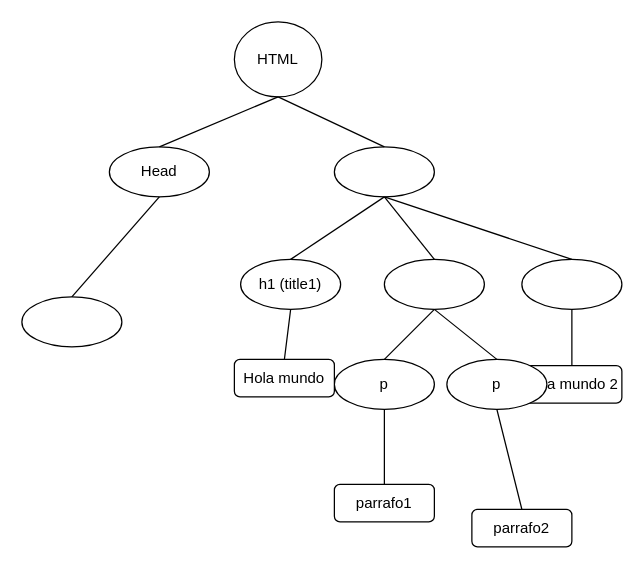
This 644x569 diagram has some shape labels left out. Here are the shapes that lost their labels. From the top down, the box of each, then its label:
(333, 146, 434, 197): Body
(383, 258, 484, 309): div
(521, 258, 622, 309): h1
(21, 296, 122, 347): title
